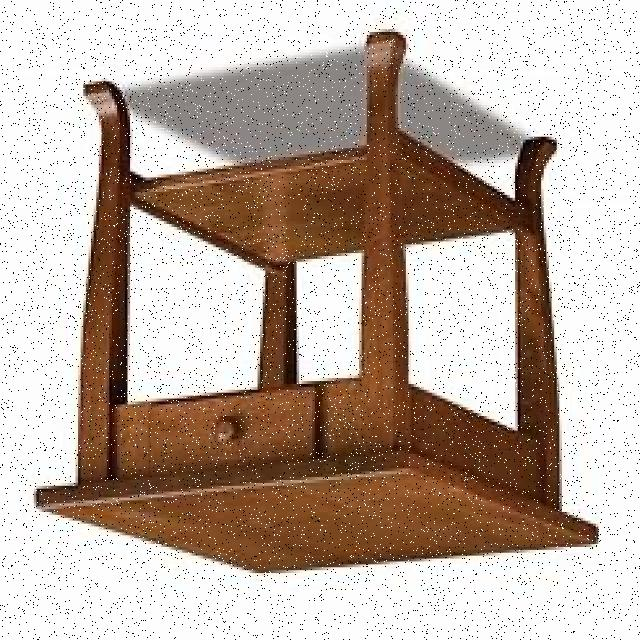mobile-phone: (33, 20, 606, 577)
